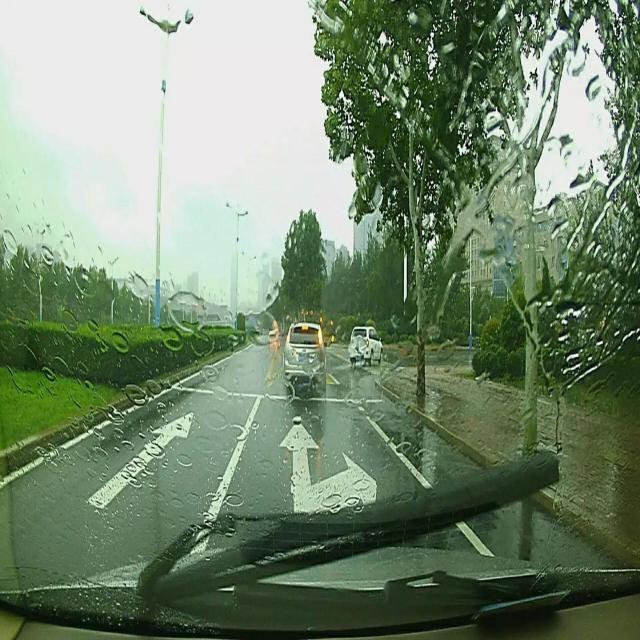car: (282, 323, 326, 388), (348, 326, 382, 364)
